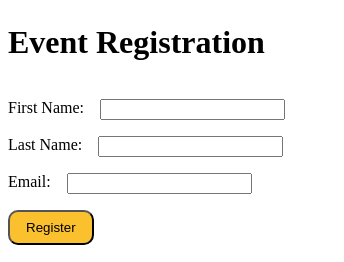
RegisterForm › should register successfully with valid inputs
Type "Jane" into the field labelled "First Name:". click: (192,109)
box: [100,99,285,120]
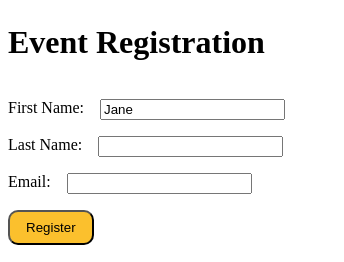
Type "Doe" into the field labelled "Last Name:". click: (191,146)
box: [98,136,283,157]
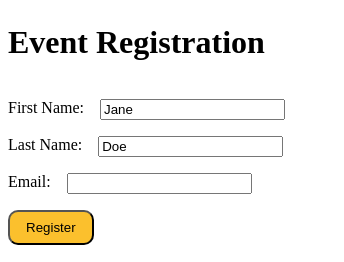
Type "janedone@gmail.com" into the field labelled "Email:". click: (159,183)
box: [67,173,252,194]
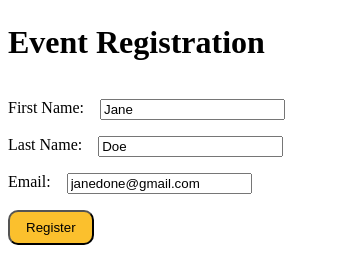
Click the button. click: (51,227)
box: [8,210,94,245]
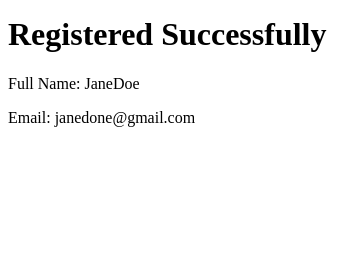
Now the heading "Registered Successfully" is shown, box [8,16,326,52]
